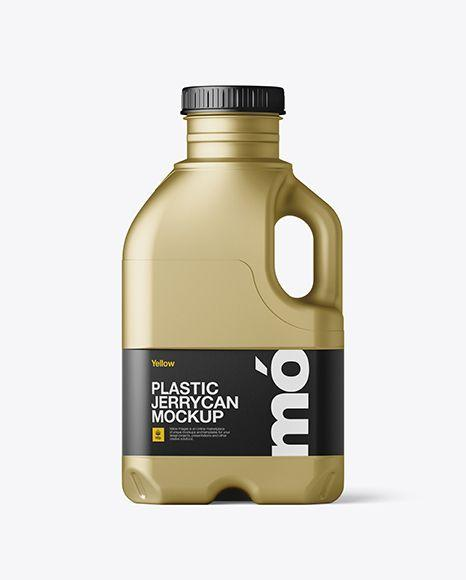HDPE: (124, 110, 343, 503), (181, 83, 286, 113)
